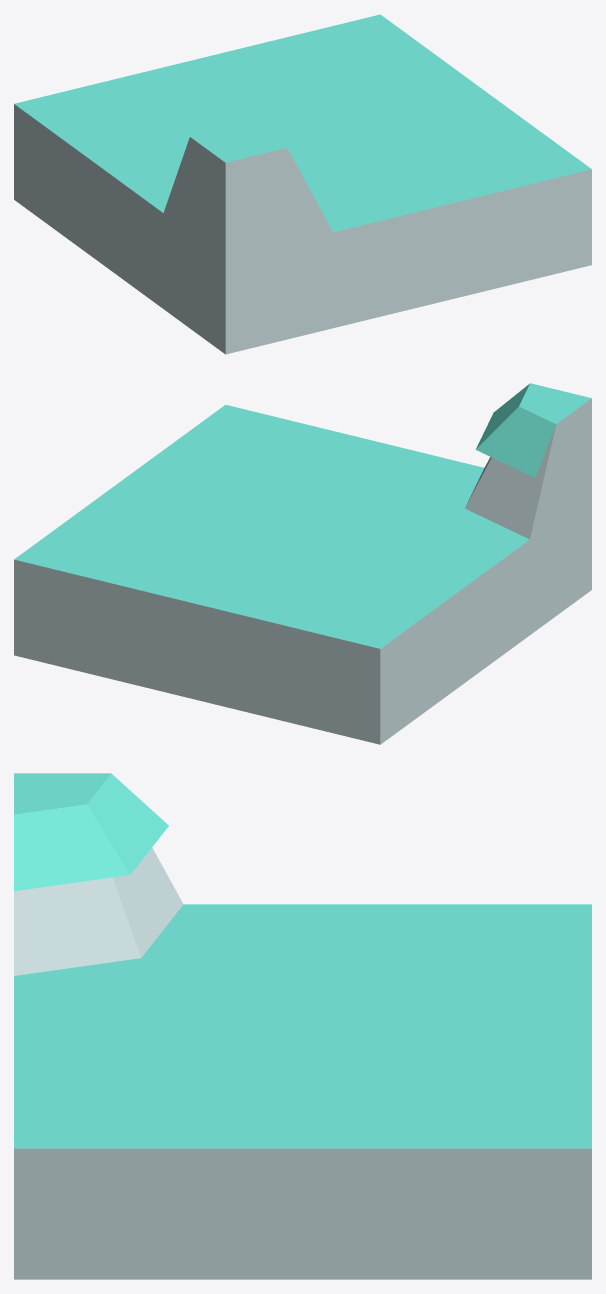
The model's file is cliff_halfCorner_quarter_stone.glb.
3 renders of one model, top to bottom at view 1: azimuth 30°, elevation 25°; view 2: azimuth 150°, elevation 25°; view 3: azimuth 270°, elevation 25°, orthographic. The views are drawn at different scales.
Parts seen in each view (by area): view 1: cliff_halfCorner_quarter_stone; view 2: cliff_halfCorner_quarter_stone; view 3: cliff_halfCorner_quarter_stone.
Boxes of the visible parts, x1,y1,x2,y2 form: cliff_halfCorner_quarter_stone: [14, 14, 591, 354]; cliff_halfCorner_quarter_stone: [14, 383, 591, 744]; cliff_halfCorner_quarter_stone: [14, 773, 591, 1279].
Bounding box in the file's own units: 1 × 0.5 × 1.
